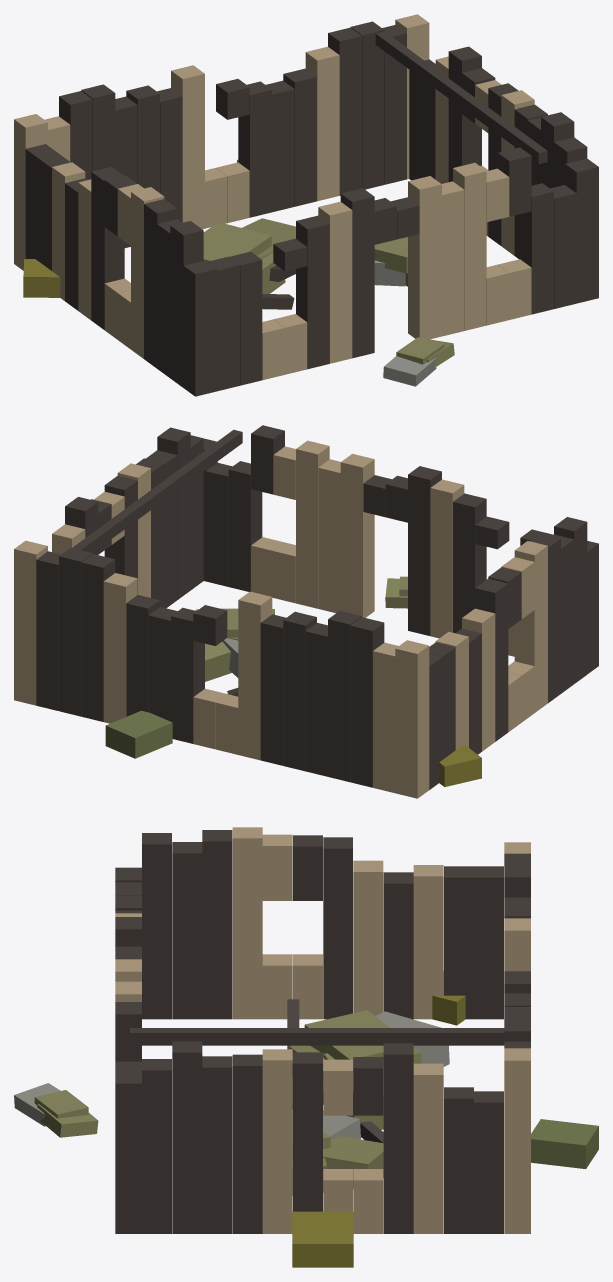
File: SM_CasaRuina_v3_Quemada_LOD1.fbx
3 renders of one model, top to bottom at view 1: azimuth 30°, elevation 25°; view 2: azimuth 150°, elevation 25°; view 3: azimuth 270°, elevation 25°, orthographic. The views are drawn at different scales.
Parts seen in each view (by area): view 1: SM_casa_ruina_v3_LOD1; view 2: SM_casa_ruina_v3_LOD1; view 3: SM_casa_ruina_v3_LOD1.
Part boxes in pixels (x1,y1,x2,y2): SM_casa_ruina_v3_LOD1: [14, 14, 598, 396]; SM_casa_ruina_v3_LOD1: [14, 425, 598, 798]; SM_casa_ruina_v3_LOD1: [14, 827, 598, 1267].
Bounding box in the file's own units: 10.96 × 3.59 × 9.85.
